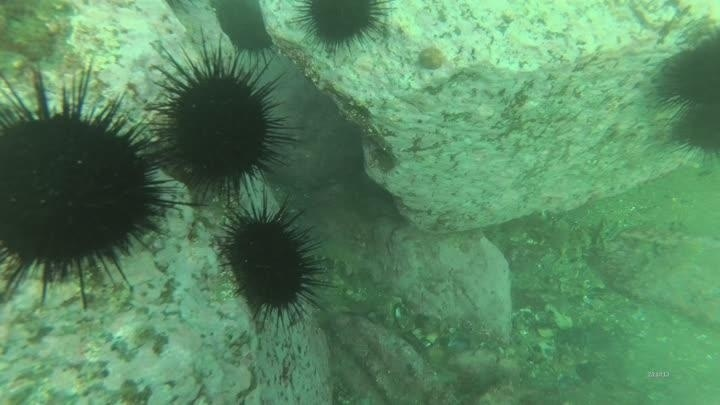echinus: (1, 63, 183, 299), (143, 39, 299, 203), (216, 200, 327, 325), (652, 31, 720, 116), (294, 1, 390, 54), (210, 1, 279, 68), (669, 101, 720, 162)
holothurian: (523, 210, 597, 263)
